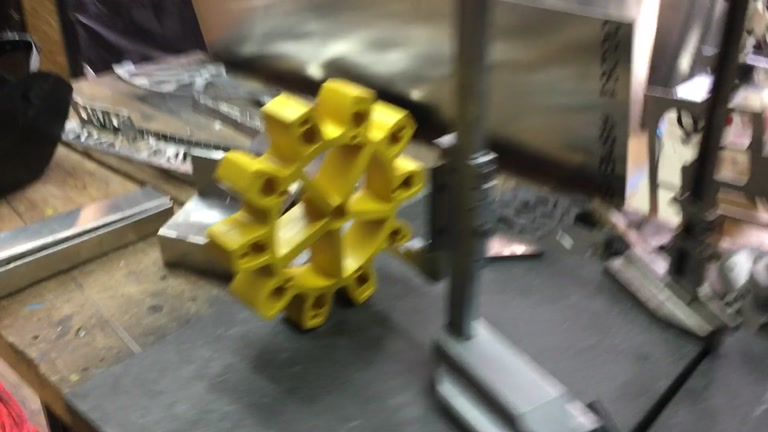gear: (205, 80, 428, 333)
